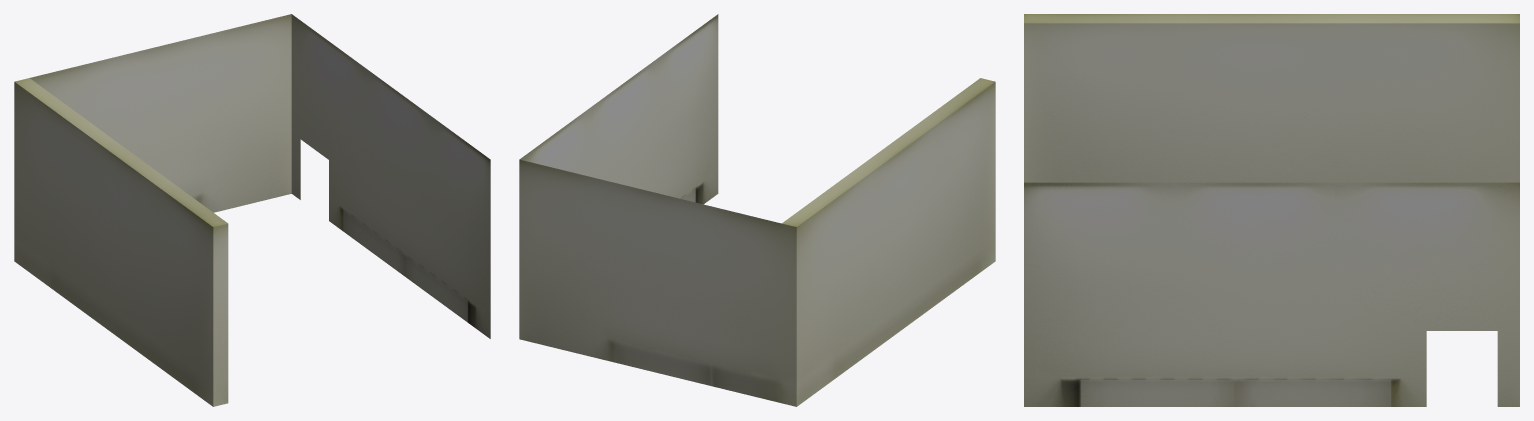
Rendered from New Wall Bake.glb.
The picture shows the model from 3 angles, left to right: view 1: azimuth 30°, elevation 25°; view 2: azimuth 150°, elevation 25°; view 3: azimuth 270°, elevation 25°; orthographic projection. The views are drawn at different scales.
Visible parts, largest first — view 1: Wall_Baked; view 2: Wall_Baked; view 3: Wall_Baked.
Part boxes in pixels (<box>): Wall_Baked: <box>14,14,490,406</box>; Wall_Baked: <box>519,14,995,406</box>; Wall_Baked: <box>1024,14,1519,406</box>.
Size of the model in its own units: 11.29 by 6.99 by 14.02.
1 material, 1 textured.
